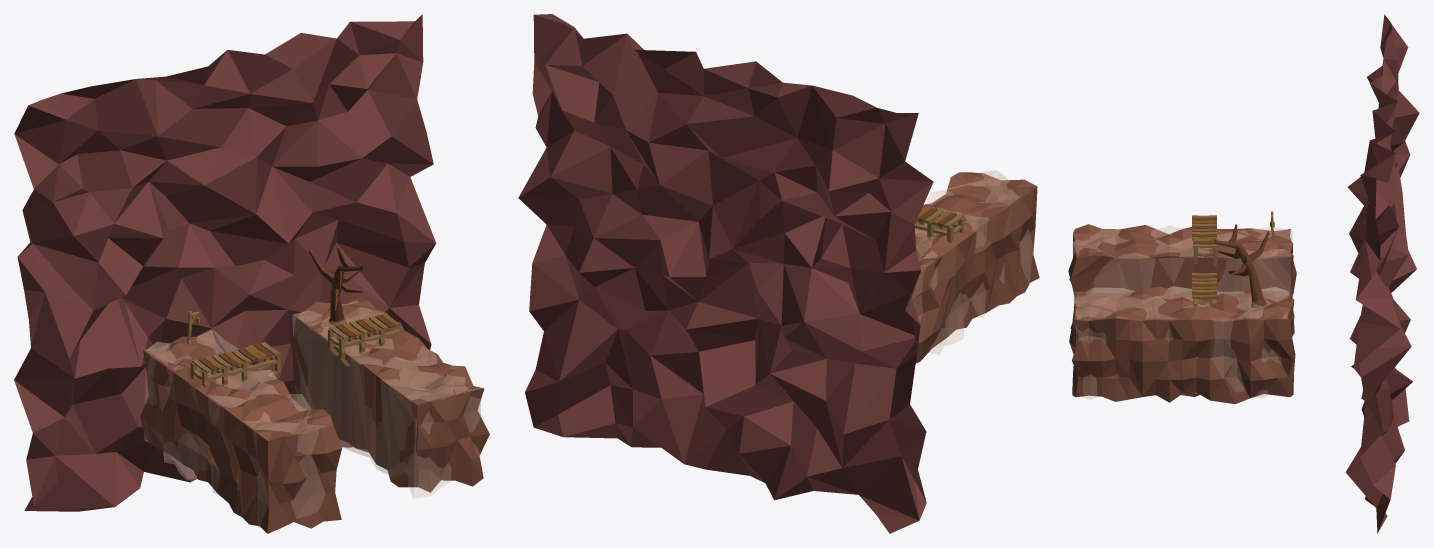
The model's file is Tile3.fbx.
3 renders of one model, left to right at view 1: azimuth 30°, elevation 25°; view 2: azimuth 150°, elevation 25°; view 3: azimuth 270°, elevation 25°, orthographic. The views are drawn at different scales.
Parts seen in each view (by area): view 1: Plane.008, Plane.007, Plane.006, Cylinder.023, Cube.036, Cube.029, Cube.032, Cube.037, Cube.031, Cube.030, Cube.038; view 2: Plane.008, Plane.007, Plane.006, Cube.029; view 3: Plane.007, Plane.008, Plane.006, Cylinder.023, Cube.031.
Boxes of the visible parts, bbox=[...] form: Plane.008: bbox=[14, 14, 436, 511]; Plane.007: bbox=[140, 297, 489, 533]; Plane.006: bbox=[144, 300, 480, 527]; Cylinder.023: bbox=[309, 248, 363, 325]; Cube.036: bbox=[328, 323, 361, 366]; Cube.029: bbox=[190, 356, 224, 387]; Cube.032: bbox=[230, 346, 263, 383]; Cube.037: bbox=[348, 318, 381, 354]; Cube.031: bbox=[248, 342, 280, 377]; Cube.030: bbox=[210, 351, 243, 386]; Cube.038: bbox=[367, 313, 400, 347]; Plane.008: bbox=[518, 14, 933, 533]; Plane.007: bbox=[911, 172, 1039, 363]; Plane.006: bbox=[911, 170, 1033, 354]; Cube.029: bbox=[931, 211, 964, 243]; Plane.007: bbox=[1068, 224, 1296, 404]; Plane.008: bbox=[1345, 14, 1419, 533]; Plane.006: bbox=[1073, 225, 1292, 399]; Cylinder.023: bbox=[1213, 224, 1269, 307]; Cube.031: bbox=[1193, 239, 1218, 266].
Bounding box in the file's own units: 5169 × 5216 × 4578.
